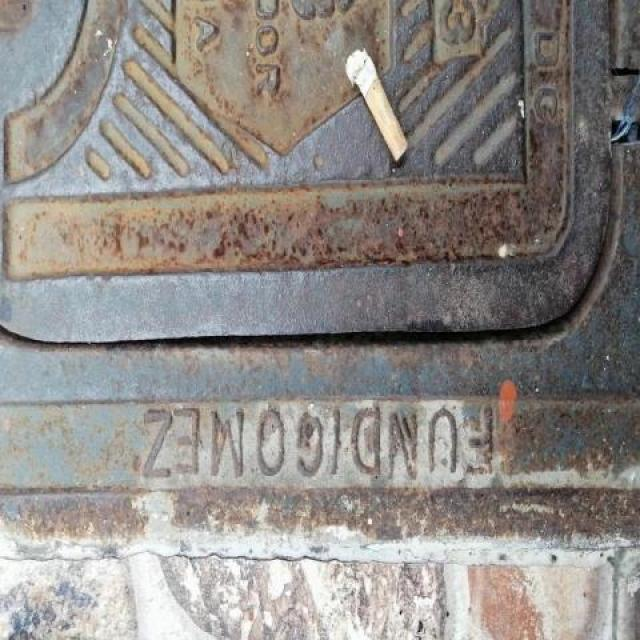non-organic waste: (341, 43, 411, 169)
